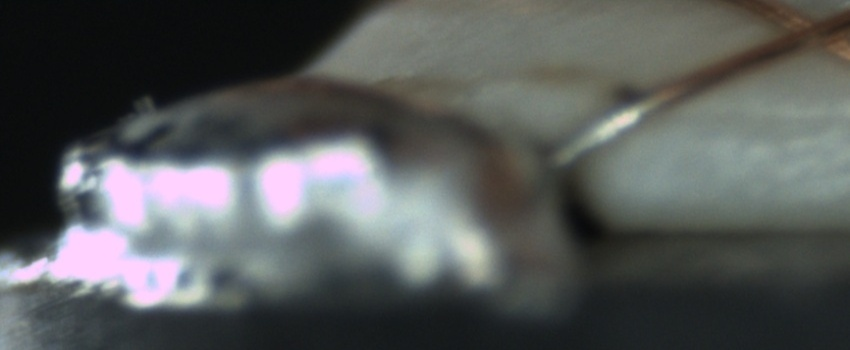CL: (762, 1, 850, 59)
DL: (673, 92, 849, 144)
TS: (551, 97, 664, 171)
